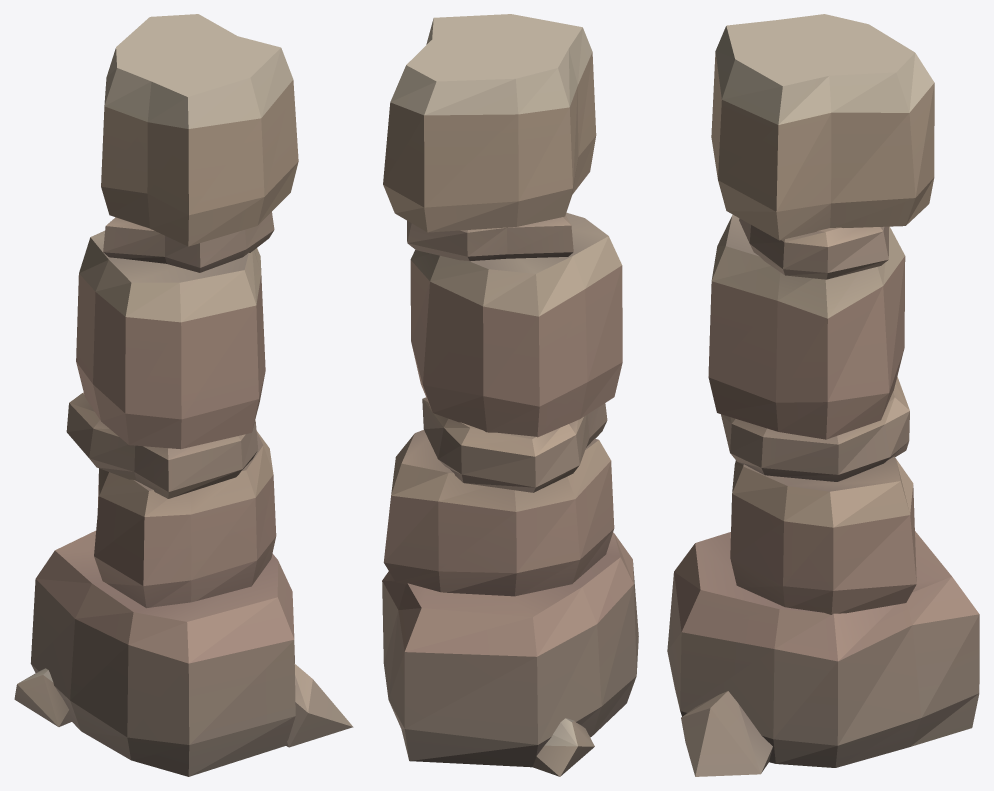
Rendered from rock_3.glb.
3 views of the same model, side by side, from view 1: azimuth 30°, elevation 25°; view 2: azimuth 150°, elevation 25°; view 3: azimuth 270°, elevation 25° (orthographic). The views are drawn at different scales.
Size of the model in its own units: 1.68 by 4.5 by 1.88.
